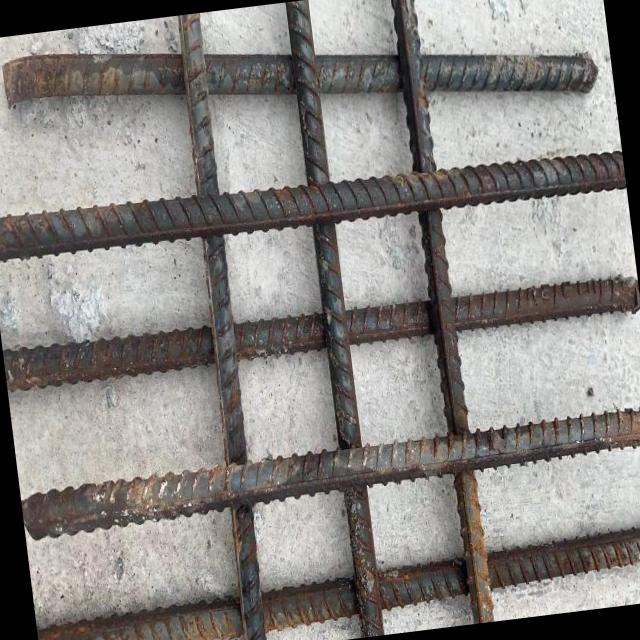ribbed bar: (0, 0, 601, 167), (18, 403, 640, 543), (0, 140, 627, 271), (2, 268, 640, 396), (34, 523, 640, 640), (386, 0, 496, 624), (168, 13, 277, 640), (282, 0, 386, 638)
